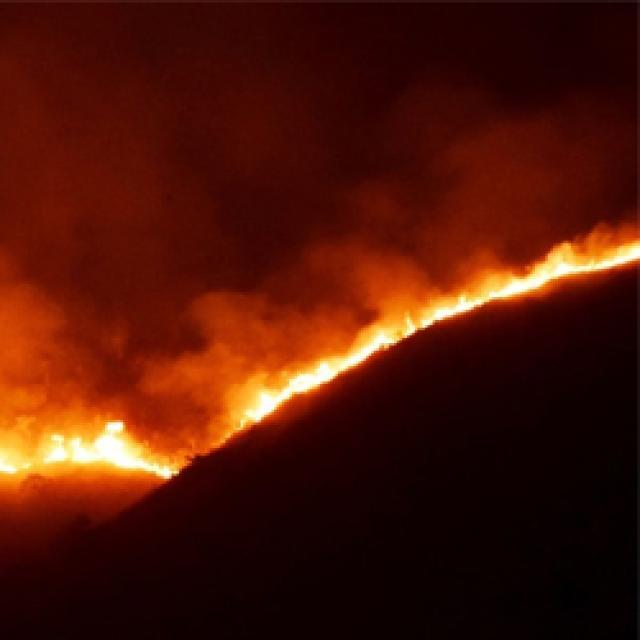Fire: (476, 241, 640, 315), (0, 417, 172, 484), (243, 362, 329, 422), (330, 320, 414, 380), (419, 294, 474, 328)
Smoke: (0, 0, 242, 417), (233, 0, 640, 238), (236, 235, 330, 362), (2, 486, 151, 562), (336, 237, 418, 320), (409, 235, 477, 292)
